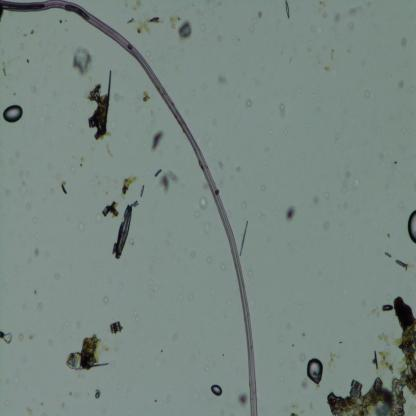Air bubble: (306, 356, 325, 382), (2, 102, 24, 124), (407, 210, 416, 244), (211, 383, 224, 397), (110, 320, 122, 335), (382, 302, 393, 314)
Background material: (325, 296, 416, 414), (87, 65, 115, 145), (67, 331, 111, 371), (128, 14, 162, 38), (368, 346, 394, 376), (71, 45, 94, 76), (156, 170, 181, 194), (238, 220, 248, 256), (121, 176, 137, 198), (392, 29, 408, 50), (101, 200, 119, 218), (178, 20, 193, 41), (151, 130, 164, 153), (0, 328, 14, 348), (235, 388, 248, 408), (285, 205, 297, 224), (196, 195, 208, 213), (277, 97, 287, 118), (395, 258, 409, 272), (314, 208, 324, 226), (169, 16, 179, 33), (244, 99, 255, 113), (32, 246, 43, 260), (140, 90, 150, 105), (60, 180, 68, 198), (15, 330, 25, 344), (330, 49, 338, 66), (379, 333, 391, 344), (25, 28, 40, 36), (36, 297, 45, 310), (93, 388, 102, 400), (396, 79, 404, 90), (220, 74, 228, 85), (384, 250, 392, 260), (334, 14, 344, 22), (58, 16, 66, 25), (29, 330, 36, 340)
Diatom: (114, 206, 134, 258), (350, 379, 362, 400), (284, 0, 292, 19), (139, 182, 145, 197)
Microfibre: (0, 0, 258, 414)
